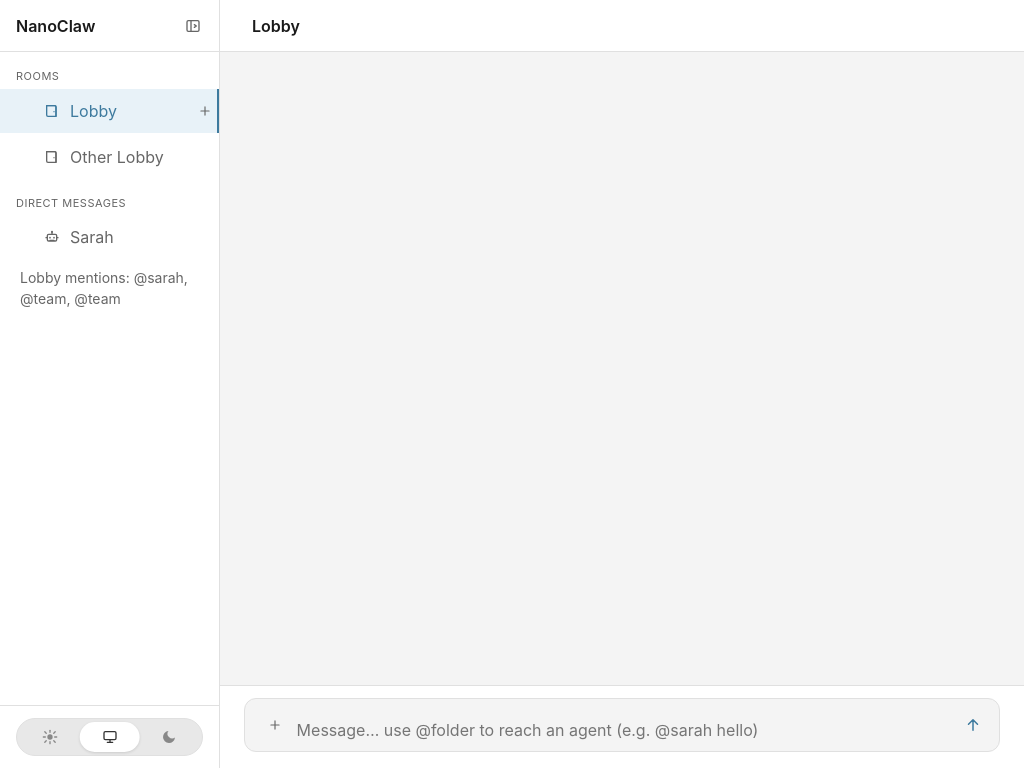
Test: App › does not duplicate when two websocket echoes arrive for queued optimistic sends
The image size is (1024, 768).
expect the heading "Lobby" is shown: met, box [252,14,300,38]
In the text box with placeholder "Message… use @folder to reach an agent (e.g. @sarah hello)": coordinates (624, 730) [297,719,951,741], type "first"
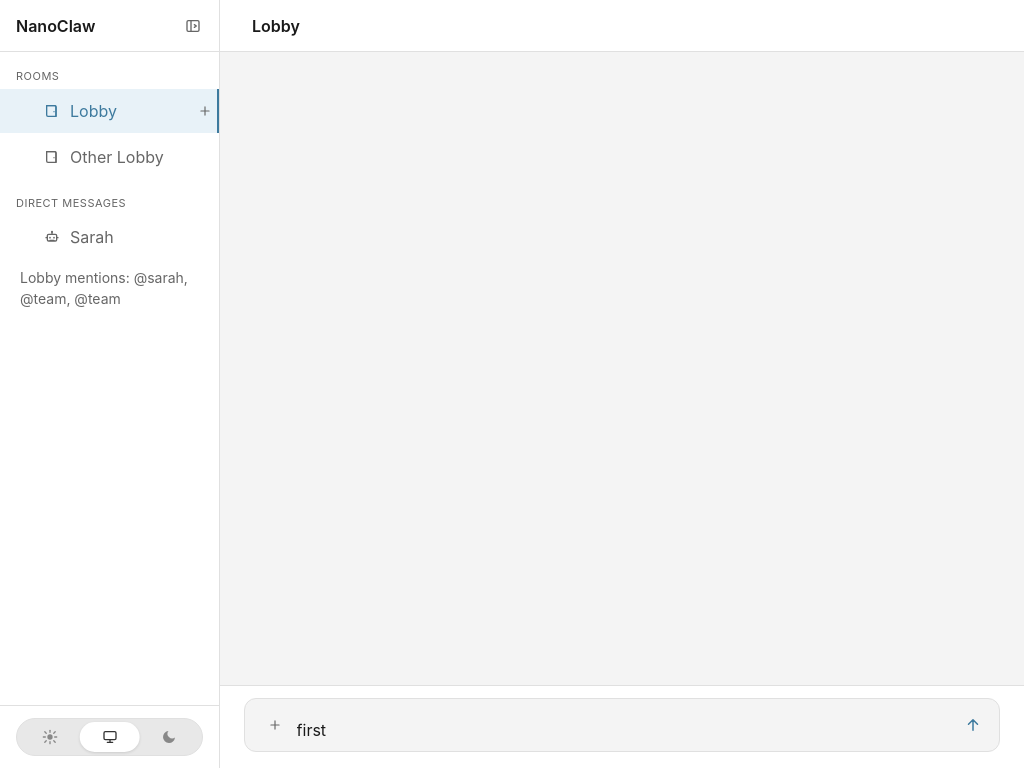
Click the button named "Send message": coordinates (973, 725) [957,709,989,741]
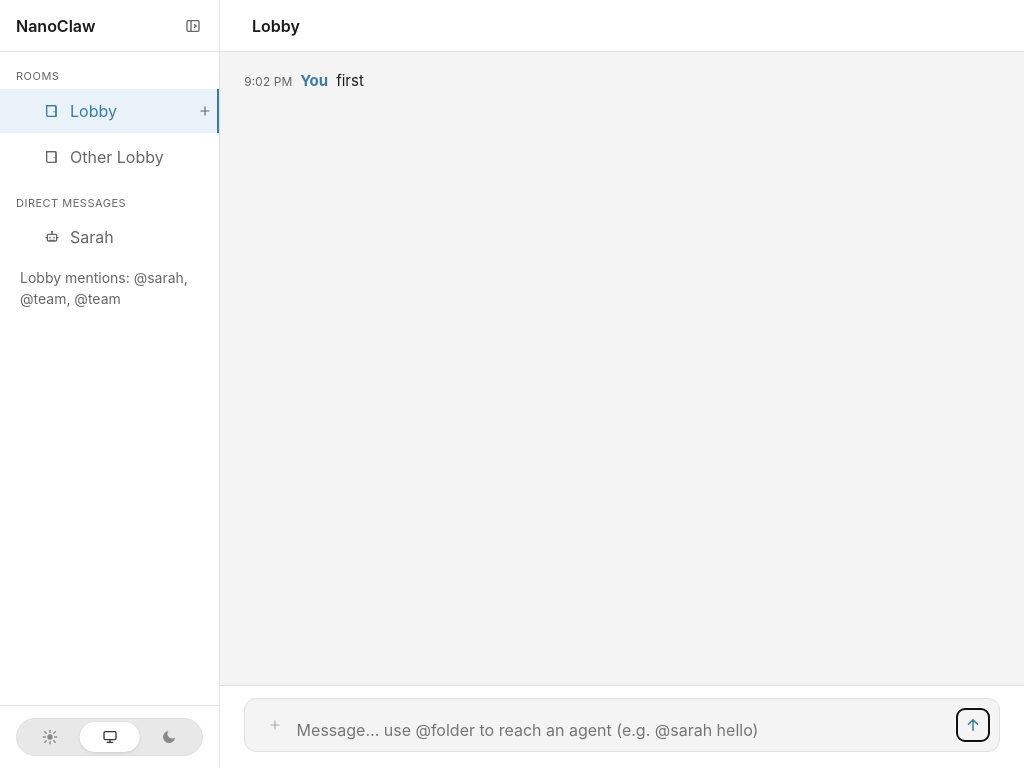
expect the text "first" is shown: met, box [336,71,364,90]
In the text box with placeholder "Message… use @folder to reach an agent (e.g. @sarah hello)": coordinates (624, 730) [297,719,951,741], type "second"
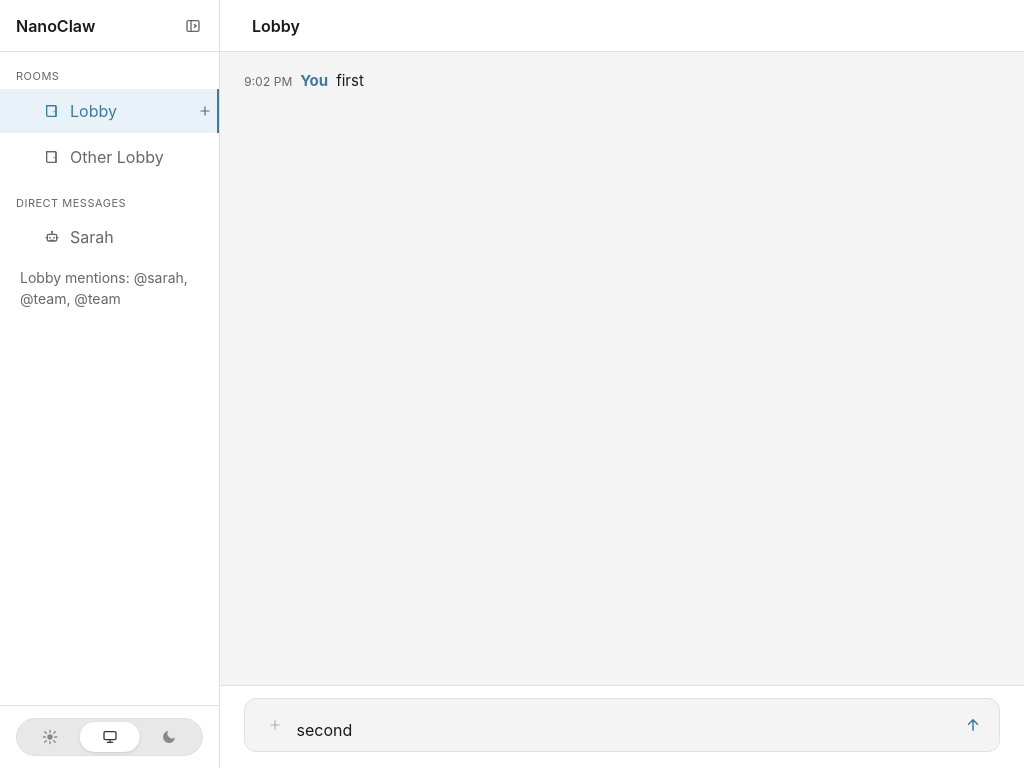
Click the button named "Send message": coordinates (973, 725) [957,709,989,741]
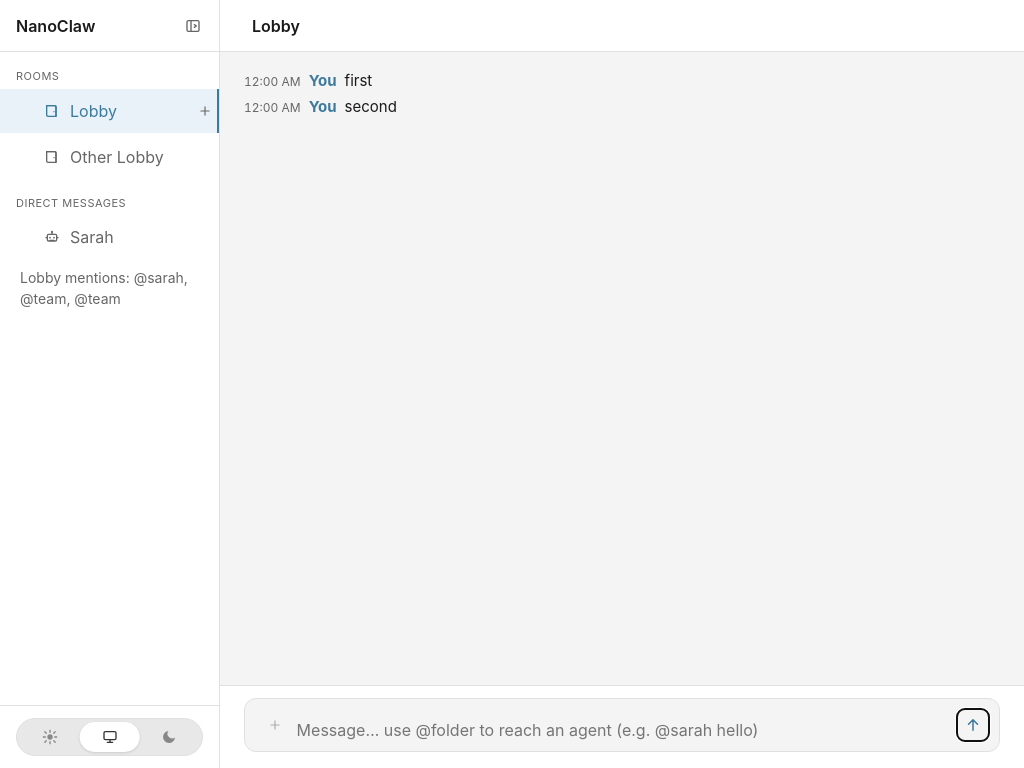
expect the text "first" is shown once: met, box [345,71,372,90]
expect the text "second" is shown once: met, box [345,97,397,116]
